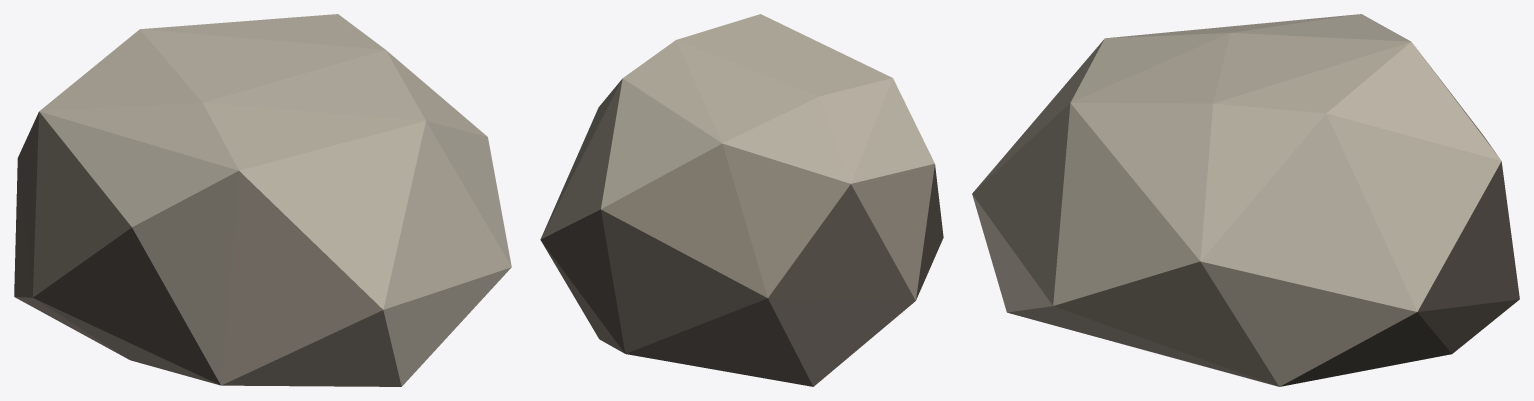
The model's file is stone_bigA.glb.
The picture shows the model from 3 angles, left to right: view 1: azimuth 30°, elevation 25°; view 2: azimuth 150°, elevation 25°; view 3: azimuth 270°, elevation 25°; orthographic projection. The views are drawn at different scales.
Parts seen in each view (by area): view 1: stone_bigA.002; view 2: stone_bigA.002; view 3: stone_bigA.002.
Boxes of the visible parts, box(x1,y1,x2,y2) form: stone_bigA.002: box(14, 14, 511, 386); stone_bigA.002: box(540, 14, 943, 386); stone_bigA.002: box(972, 14, 1519, 386).
Size of the model in its own units: 0.8056 by 0.4863 by 0.9.
